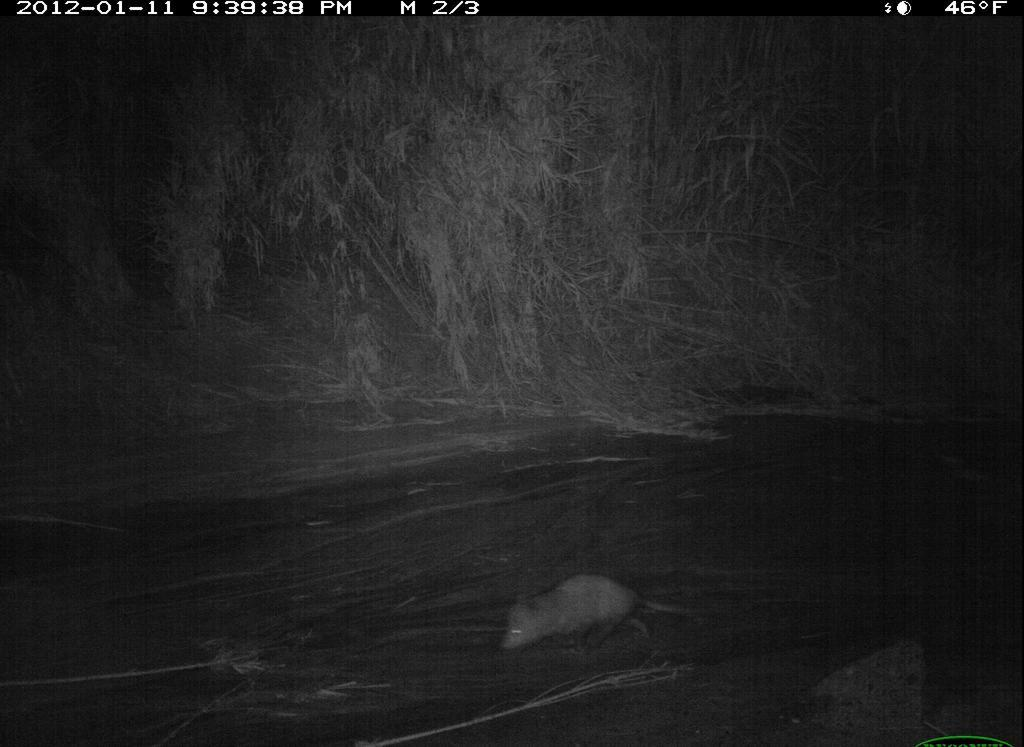opossum: (492, 561, 711, 665)
